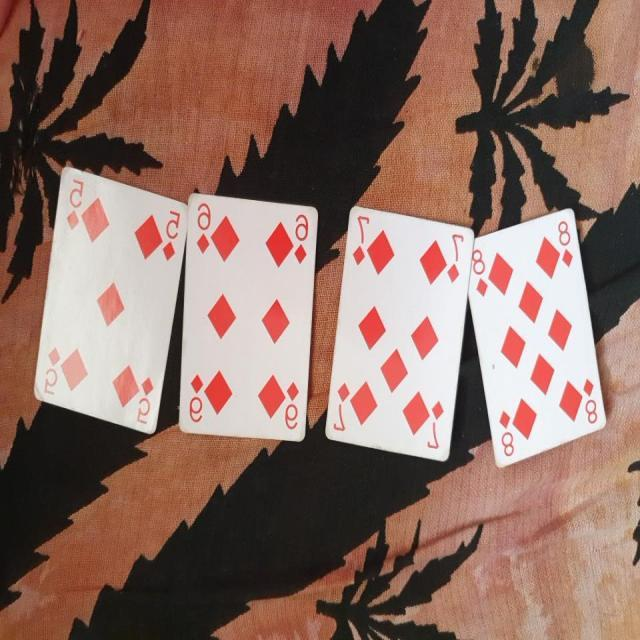5 of diamonds: (27, 165, 190, 437)
6 of diamonds: (178, 191, 318, 452)
7 of diamonds: (322, 205, 474, 466)
8 of diamonds: (468, 207, 608, 469)
